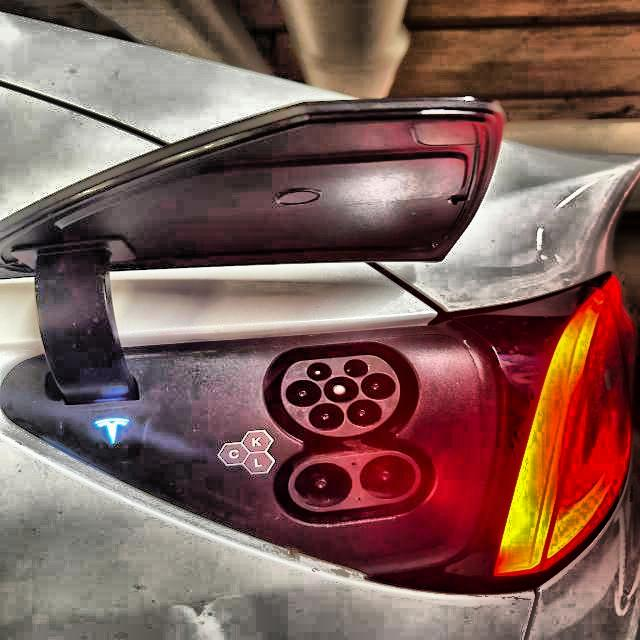inlet: (282, 355, 401, 437)
inlet-above-left: (307, 362, 332, 381)
inlet-above-right: (343, 358, 370, 378)
inlet-below-left: (308, 403, 345, 432)
inlet-below-right: (347, 399, 382, 427)
inlet-center: (323, 376, 360, 405)
inlet-center-left: (286, 380, 322, 408)
inlet-center-right: (361, 373, 397, 400)
